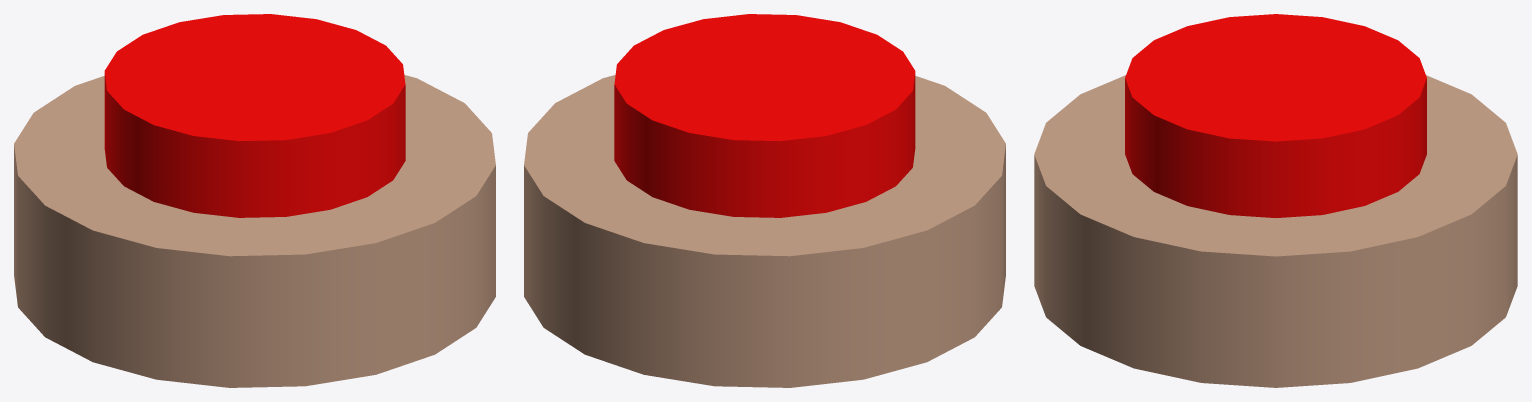
The model's file is Button.fbx.
The picture shows the model from 3 angles, left to right: view 1: azimuth 30°, elevation 25°; view 2: azimuth 150°, elevation 25°; view 3: azimuth 270°, elevation 25°; orthographic projection.
Parts seen in each view (by area): view 1: Base, Clicker; view 2: Base, Clicker; view 3: Base, Clicker.
Boxes of the visible parts, x1,y1,x2,y2 form: Base: (14,75,495,387); Clicker: (104,14,405,217); Base: (524,75,1005,387); Clicker: (614,14,915,217); Base: (1034,75,1517,387); Clicker: (1125,14,1426,217).
Bounding box in the file's own units: 17.75 × 8.43 × 17.75.
